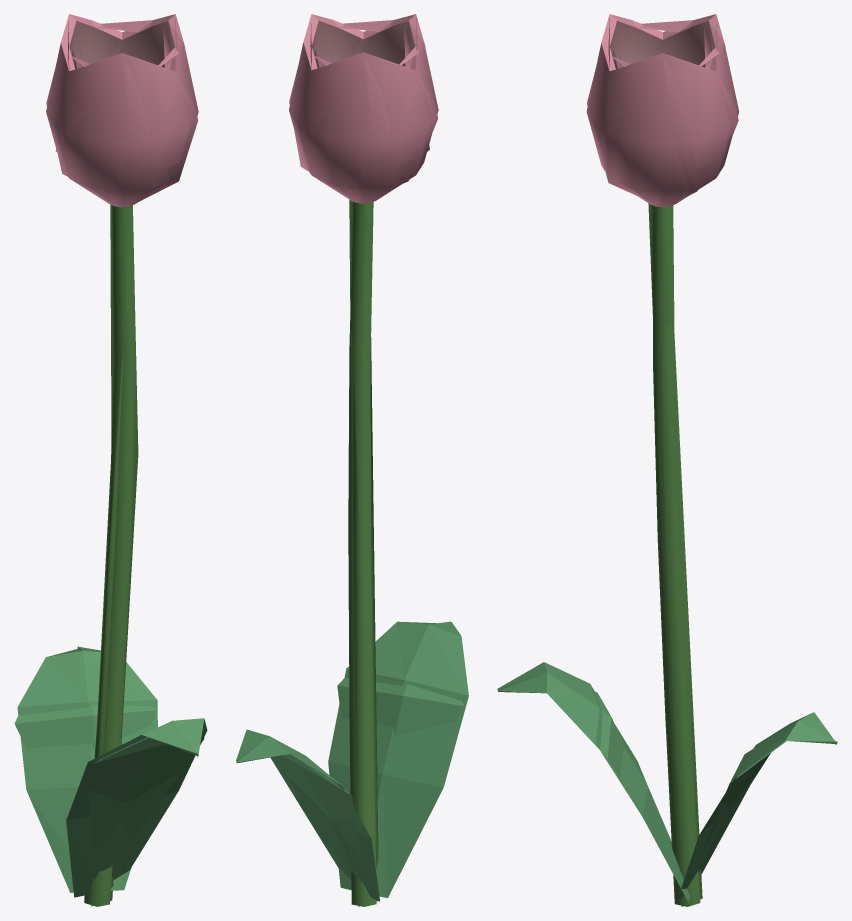
File: tulip_pink.glb
The picture shows the model from 3 angles, left to right: view 1: azimuth 30°, elevation 25°; view 2: azimuth 150°, elevation 25°; view 3: azimuth 270°, elevation 25°; orthographic projection.
Parts seen in each view (by area): view 1: leaf_nl, body__far, petal_pink_nl, stem; view 2: leaf_nl, body__far, petal_pink_nl, stem; view 3: petal_pink_nl, body__far, stem, leaf_nl.
Part boxes in pixels (x1,y1,x2,y2): leaf_nl: (17,646,207,897); body__far: (14,19,204,906); petal_pink_nl: (46,14,198,207); stem: (84,205,135,906); leaf_nl: (236,621,468,901); body__far: (237,17,463,906); petal_pink_nl: (289,14,438,203); stem: (348,201,376,906); petal_pink_nl: (586,14,739,207); body__far: (498,17,833,906); stem: (652,205,700,906); leaf_nl: (497,662,837,902).
Size of the model in its own units: 3.33 by 19.72 by 6.91.
